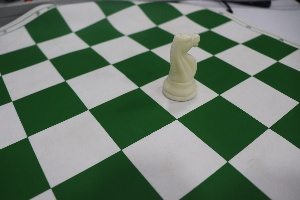white_horse: (145, 12, 210, 128)
